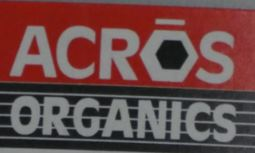AcrosOrganics: (8, 17, 238, 145)
